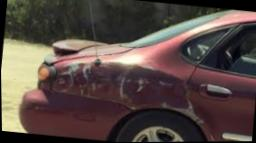Door: (178, 87, 214, 128)
Fender: (50, 56, 195, 113)
